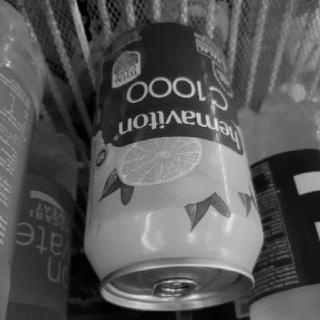alumunium_can: (79, 8, 267, 320)
